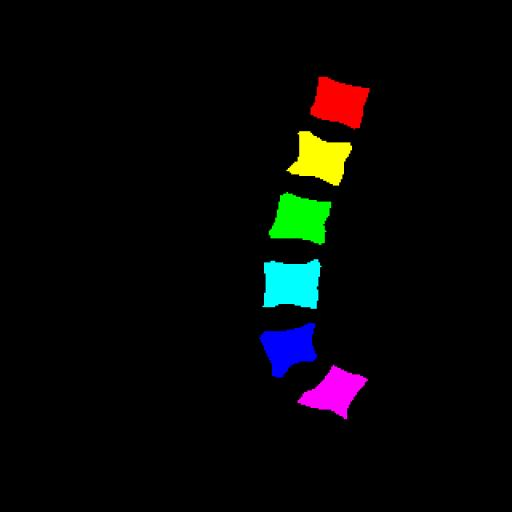L1: (310, 77, 370, 129)
L2: (287, 131, 352, 186)
L3: (269, 193, 331, 244)
L4: (264, 259, 321, 309)
L5: (260, 323, 317, 377)
S1: (298, 365, 367, 419)
